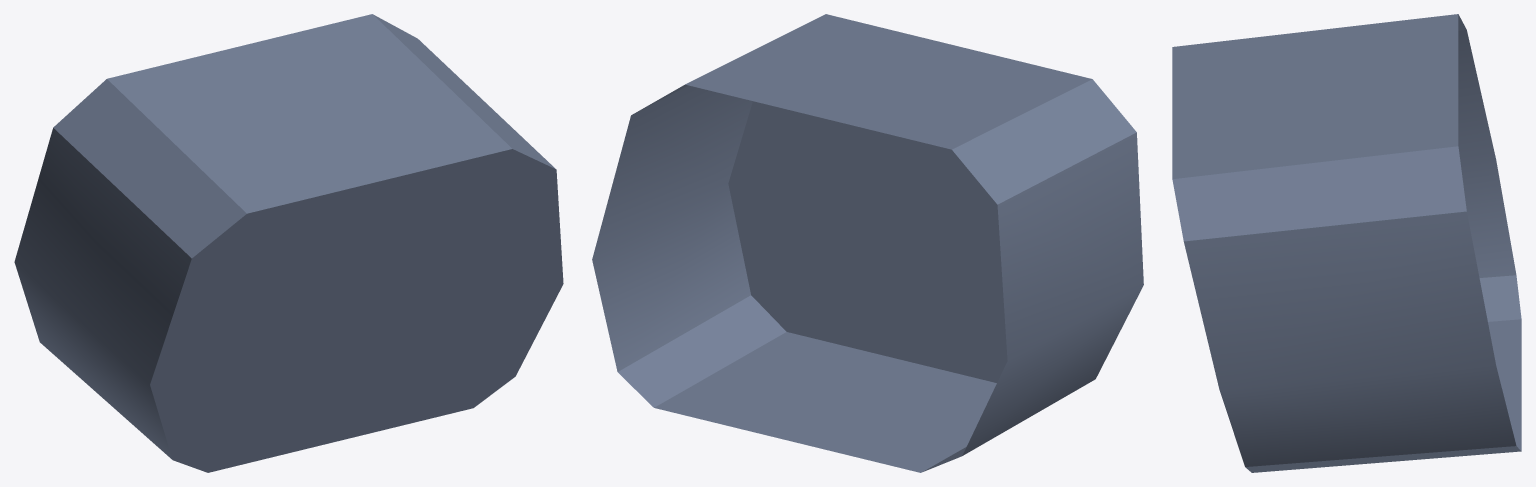
Rendered from inhaler2.fbx.
The picture shows the model from 3 angles, left to right: view 1: azimuth 30°, elevation 25°; view 2: azimuth 150°, elevation 25°; view 3: azimuth 270°, elevation 25°; orthographic projection. The views are drawn at different scales.
Visible parts, largest first — view 1: pCube3; view 2: pCube3; view 3: pCube3.
Part boxes in pixels (bbox=[...]): pCube3: bbox=[14, 14, 563, 472]; pCube3: bbox=[592, 14, 1143, 472]; pCube3: bbox=[1172, 14, 1521, 472].
Bounding box in the file's own units: 4.61 × 3.41 × 3.31.
